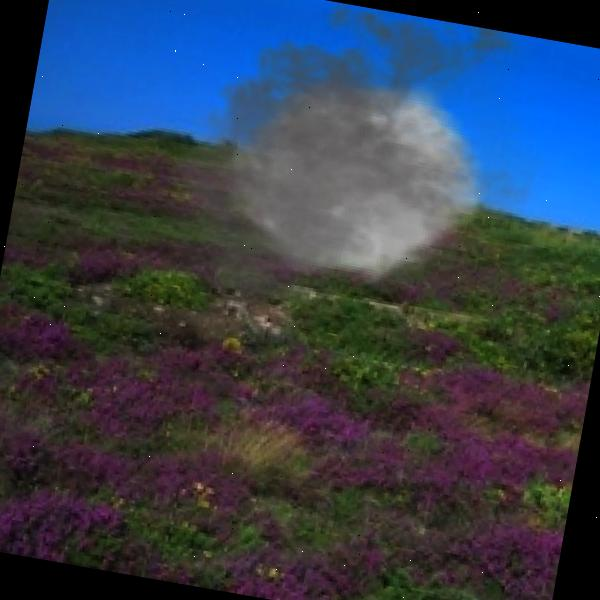smoke: (130, 0, 583, 363)
